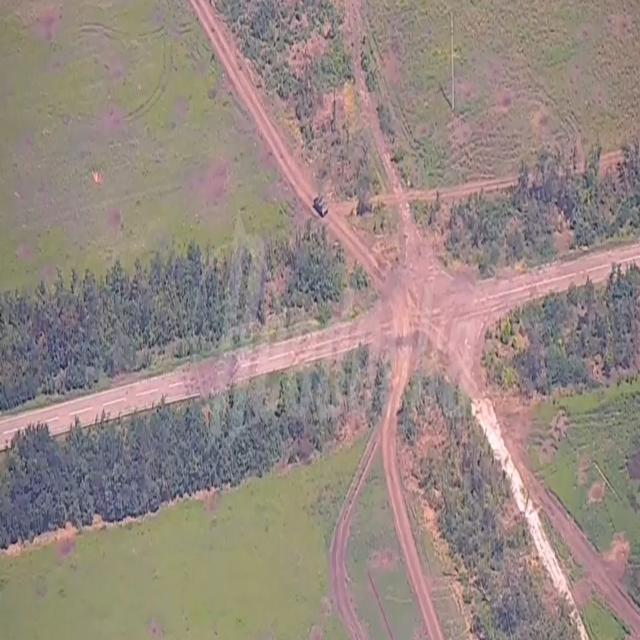APC: (312, 190, 330, 221)
